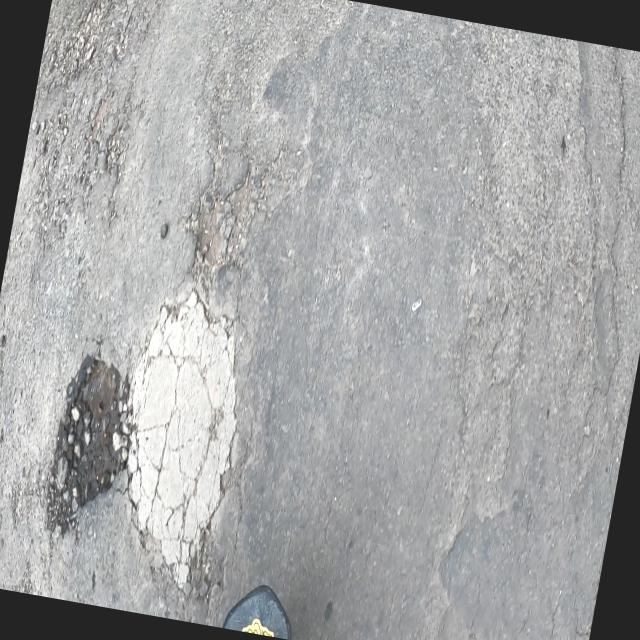Lubang: (47, 355, 130, 534), (187, 170, 261, 269)
